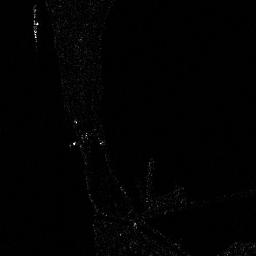ship: (31, 5, 39, 43)
